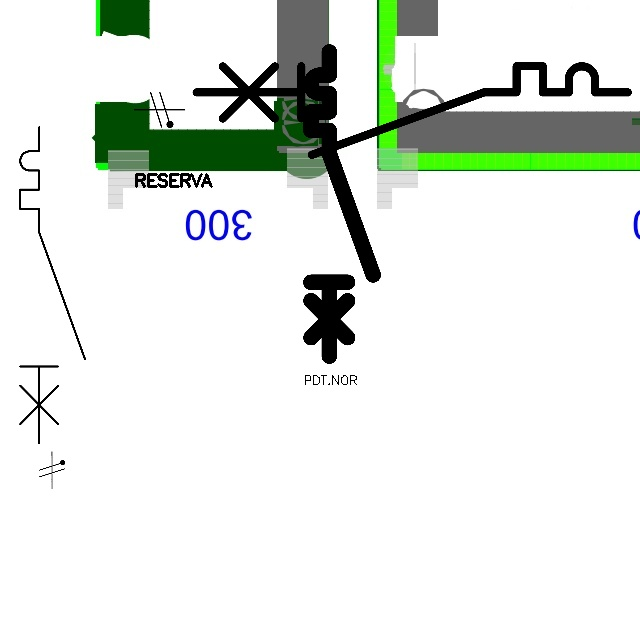interruptor_termomagnetico: (185, 55, 638, 166), (12, 119, 93, 451), (303, 44, 381, 364)
